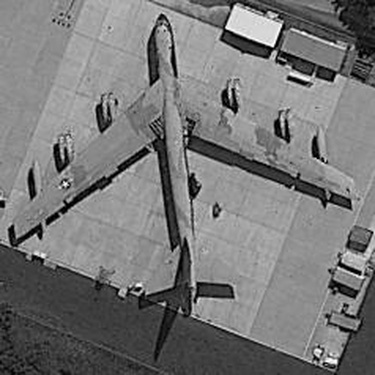airplane: (3, 1, 363, 335)
